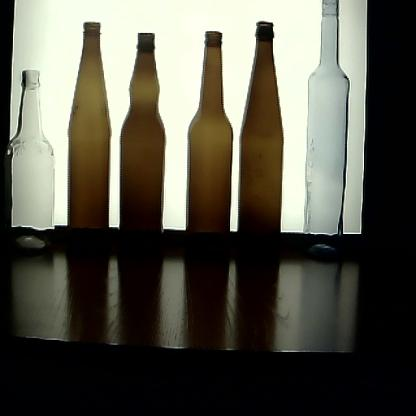Can: (300, 0, 356, 268), (117, 30, 171, 268), (183, 29, 235, 267), (238, 20, 286, 272), (66, 21, 113, 262), (1, 69, 56, 257)
